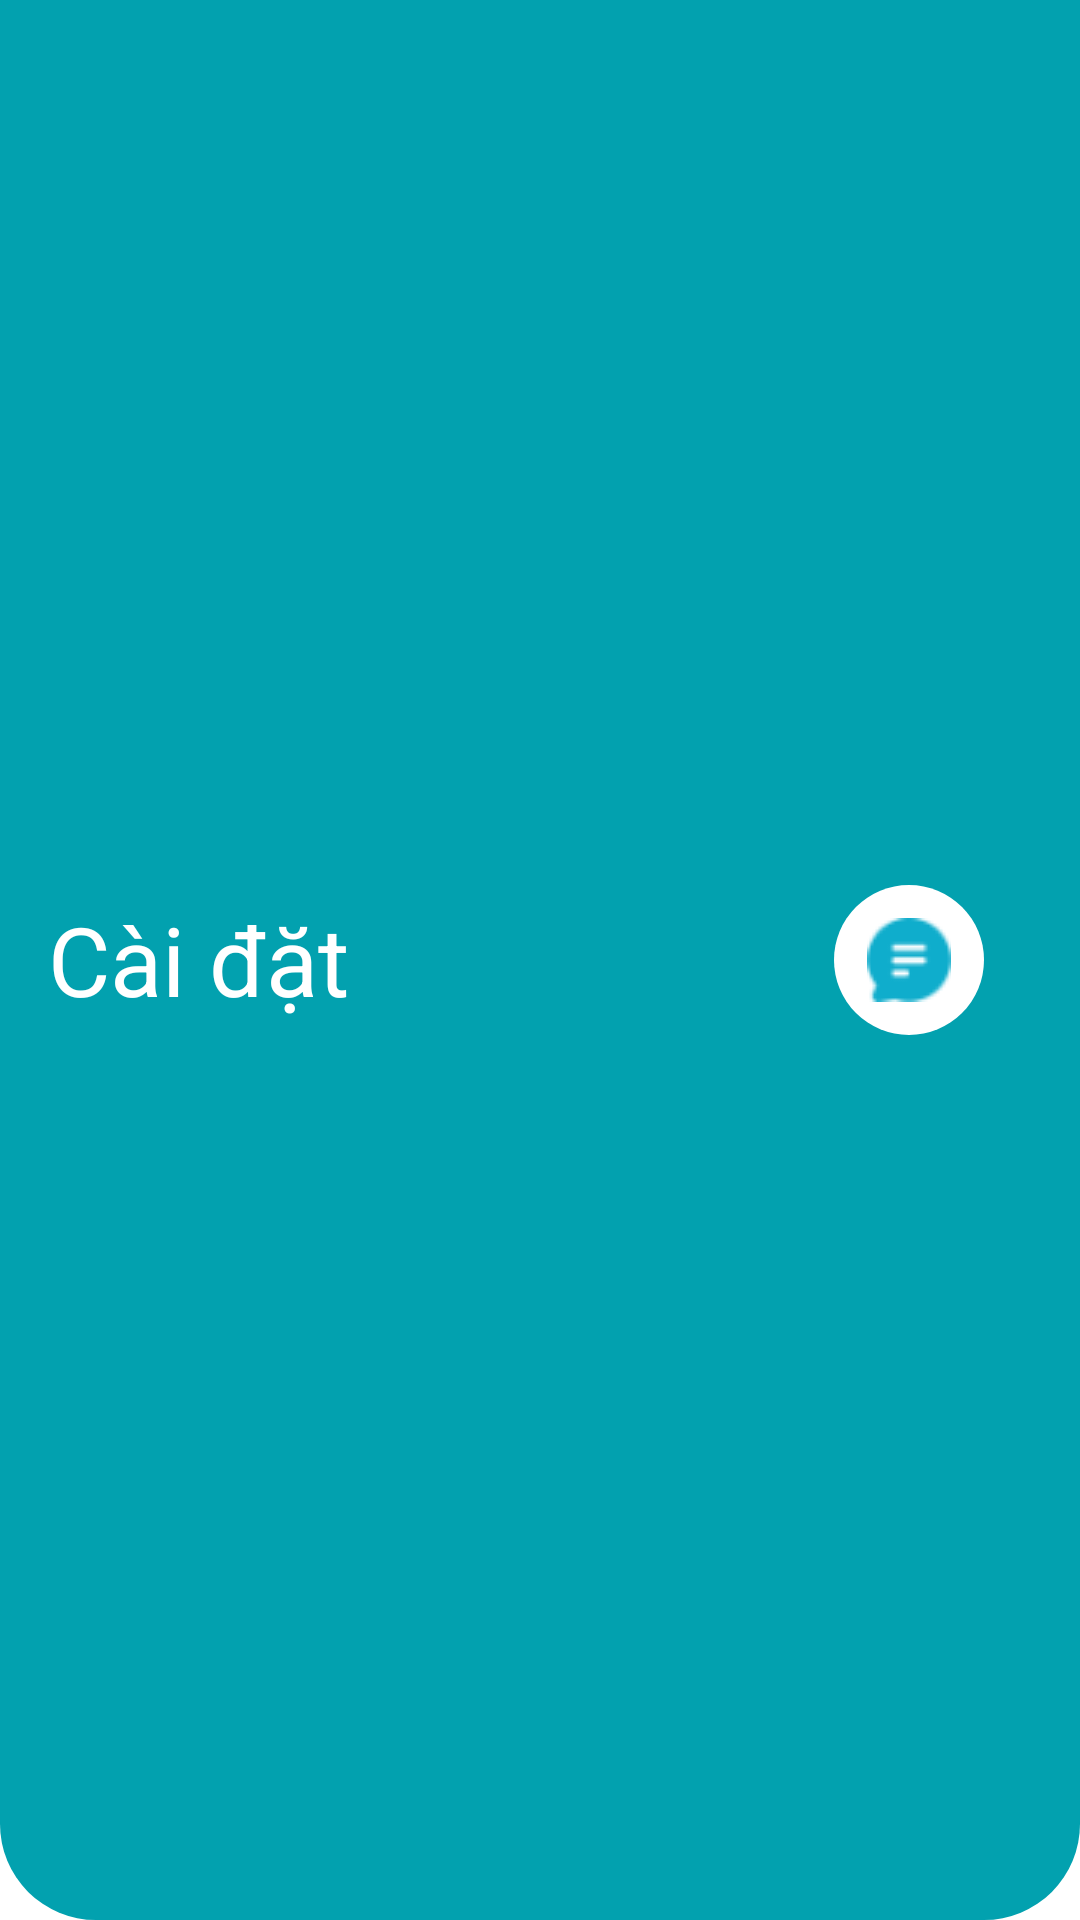

Where icons sit on this 1080px×1920px app screen, as (x1, y1, x2, y2):
comments: (834, 885, 984, 1035)
